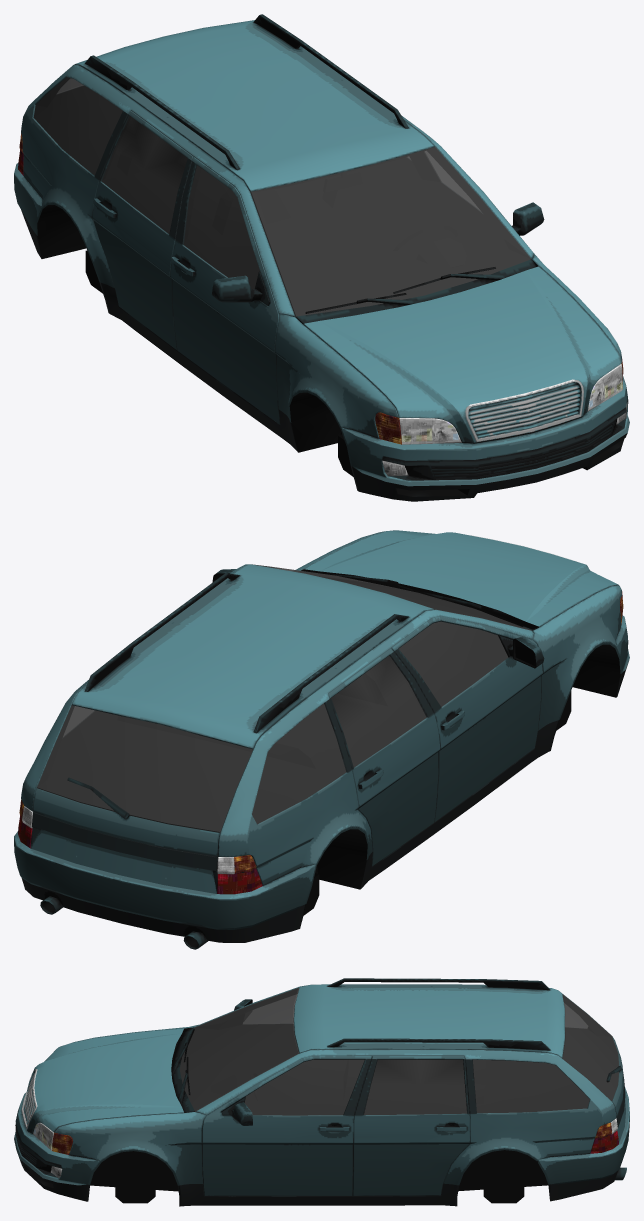
Rendered from buy_4.fbx.
3 renders of one model, top to bottom at view 1: azimuth 30°, elevation 25°; view 2: azimuth 150°, elevation 25°; view 3: azimuth 270°, elevation 25°, orthographic. The views are drawn at different scales.
Visible parts, largest first — view 1: Wagon Body; view 2: Wagon Body; view 3: Wagon Body.
Part boxes in pixels (bbox=[...]): Wagon Body: bbox=[14, 14, 629, 501]; Wagon Body: bbox=[14, 530, 629, 949]; Wagon Body: bbox=[14, 978, 629, 1206].
Bounding box in the file's own units: 219 × 139 × 493.
